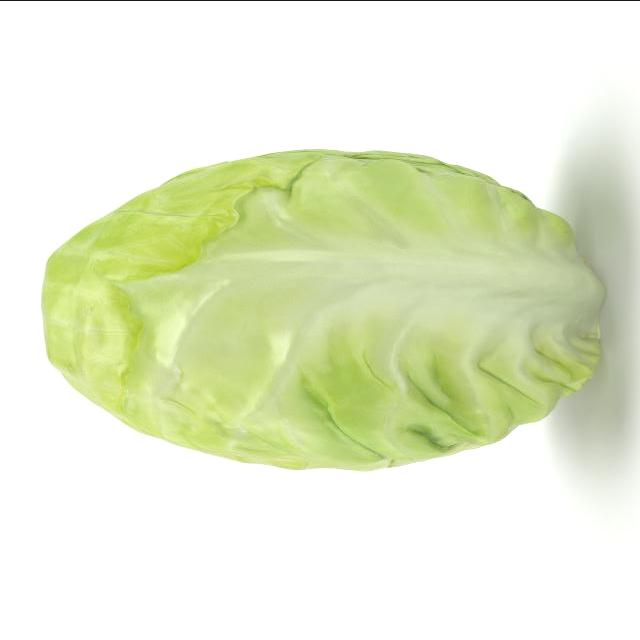cabbage: (27, 147, 604, 473)
